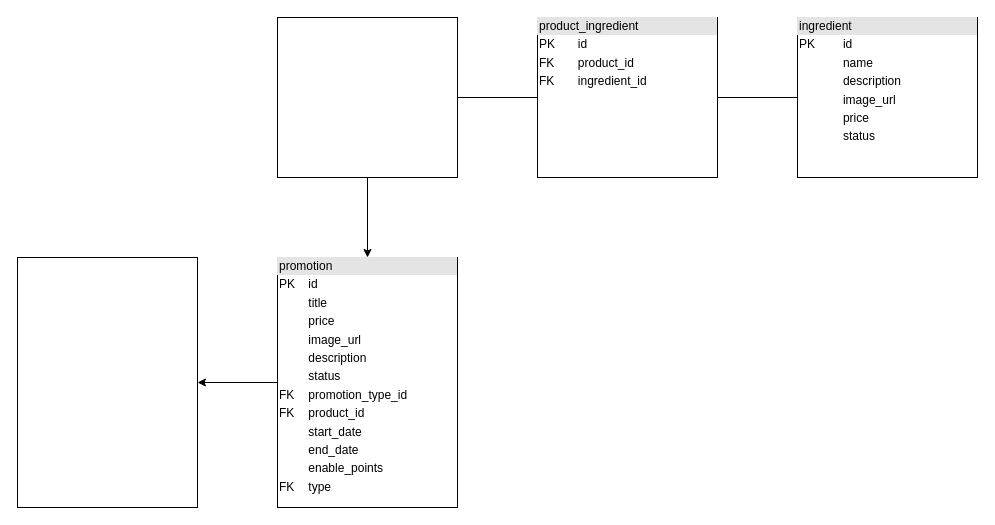
This 995x525 diagram has some shape labels left out. The shapes that lost their labels are listed below. From the top down, each one's centre as x and y in pixels, then its label:
At point 367,97: "product PK id name price image_url description status".
At point 107,382: "promotion_type PK id name description type value".
